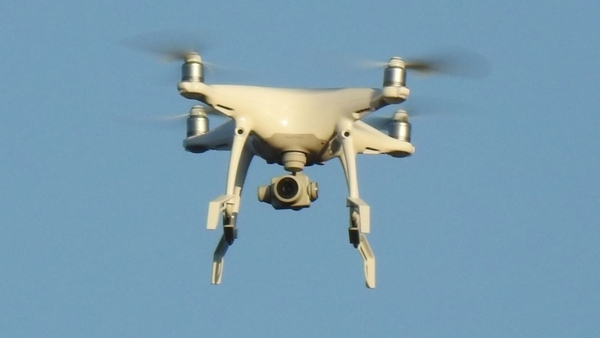drone: (153, 38, 459, 291)
